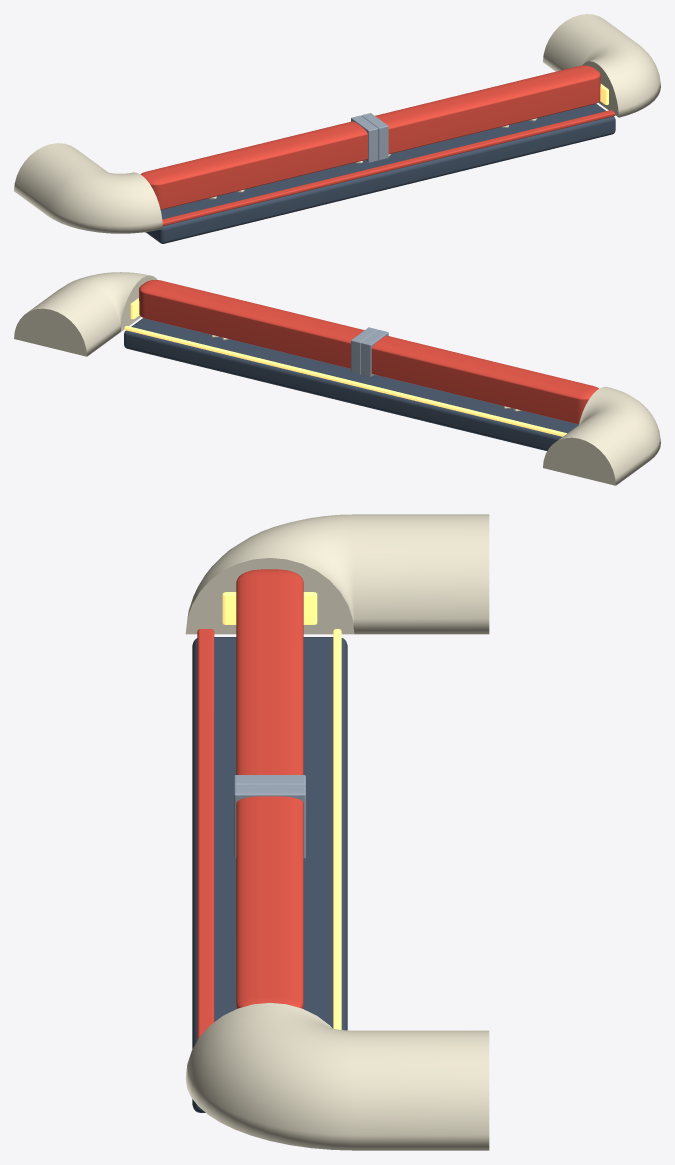
The model's file is AFJ_Gate_Corner_Compatible.fbx.
3 views of the same model, one above another, from view 1: azimuth 30°, elevation 25°; view 2: azimuth 150°, elevation 25°; view 3: azimuth 270°, elevation 25° (orthographic). The views are drawn at different scales.
Visible parts, largest first — view 1: Threshold.002, Door_Left_Mesh.002, Door_Right_Mesh.002, Gate_Corner_Frame_Left, Gate_Corner_Frame_Right, Threshold_ColorStrip.002, Gate_Metal_Joint_Left, Gate_Metal_Joint_Right; view 2: Threshold.002, Door_Left_Mesh.002, Door_Right_Mesh.002, Gate_Corner_Frame_Left, Gate_Corner_Frame_Right, Exit_Edge.002, Gate_Metal_Joint_Left, Gate_Metal_Joint_Right; view 3: Gate_Corner_Frame_Right, Gate_Corner_Frame_Left, Threshold.002, Door_Right_Mesh.002, Door_Left_Mesh.002, Threshold_ColorStrip.002, Exit_Edge.002, Gate_Metal_Joint_Right, Left_InnerLight.002.
Part boxes in pixels (bbox=[...]): Threshold.002: bbox=[145, 103, 615, 243]; Door_Left_Mesh.002: bbox=[140, 121, 367, 209]; Door_Right_Mesh.002: bbox=[375, 65, 600, 154]; Gate_Corner_Frame_Left: bbox=[14, 143, 162, 233]; Gate_Corner_Frame_Right: bbox=[543, 14, 660, 117]; Threshold_ColorStrip.002: bbox=[162, 110, 615, 225]; Gate_Metal_Joint_Left: bbox=[351, 115, 378, 162]; Gate_Metal_Joint_Right: bbox=[361, 113, 388, 160]; Threshold.002: bbox=[124, 318, 578, 450]; Door_Left_Mesh.002: bbox=[371, 335, 598, 424]; Door_Right_Mesh.002: bbox=[139, 280, 364, 368]; Gate_Corner_Frame_Left: bbox=[543, 386, 660, 485]; Gate_Corner_Frame_Right: bbox=[14, 272, 157, 356]; Exit_Edge.002: bbox=[124, 325, 566, 436]; Gate_Metal_Joint_Left: bbox=[361, 330, 388, 377]; Gate_Metal_Joint_Right: bbox=[351, 327, 377, 374]; Gate_Corner_Frame_Right: bbox=[185, 1003, 489, 1150]; Gate_Corner_Frame_Left: bbox=[185, 514, 489, 634]; Threshold.002: bbox=[192, 637, 347, 1112]; Door_Right_Mesh.002: bbox=[236, 796, 303, 1008]; Door_Left_Mesh.002: bbox=[236, 569, 303, 774]; Threshold_ColorStrip.002: bbox=[197, 629, 214, 1040]; Exit_Edge.002: bbox=[333, 629, 341, 1029]; Gate_Metal_Joint_Right: bbox=[234, 785, 305, 858]; Left_InnerLight.002: bbox=[222, 592, 317, 624].
Size of the model in its own units: 412 by 37 by 90.
